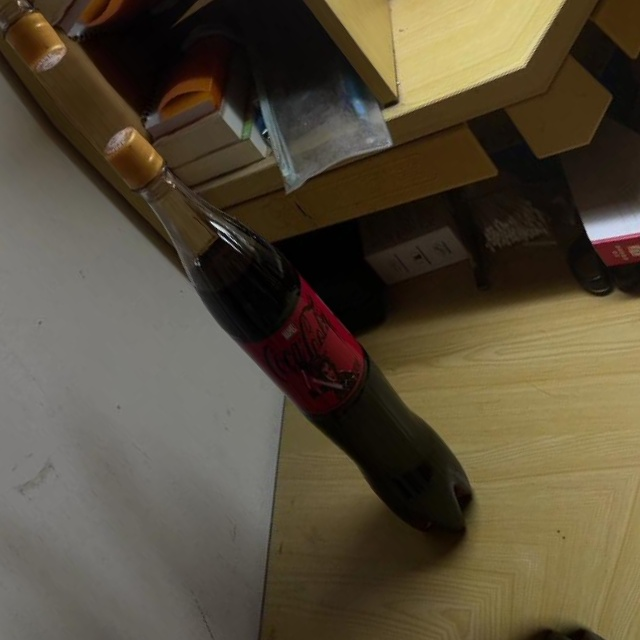Coca-Cola: (82, 100, 497, 569)
